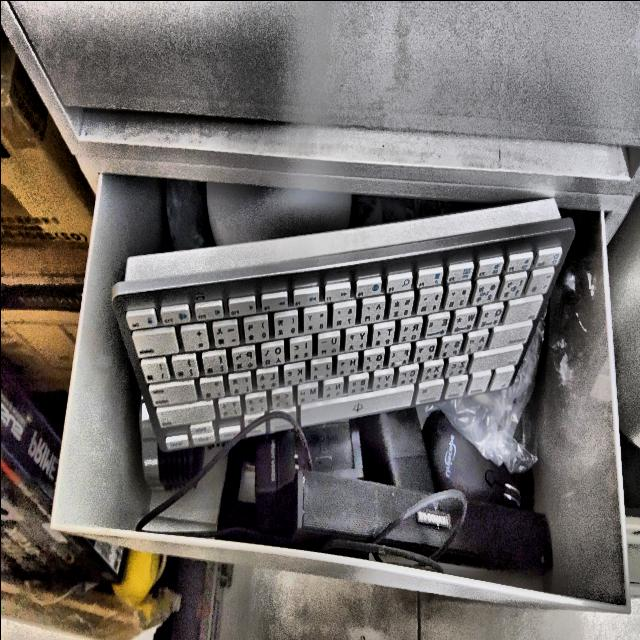Keyboard: (112, 198, 574, 452), (246, 417, 291, 435)
